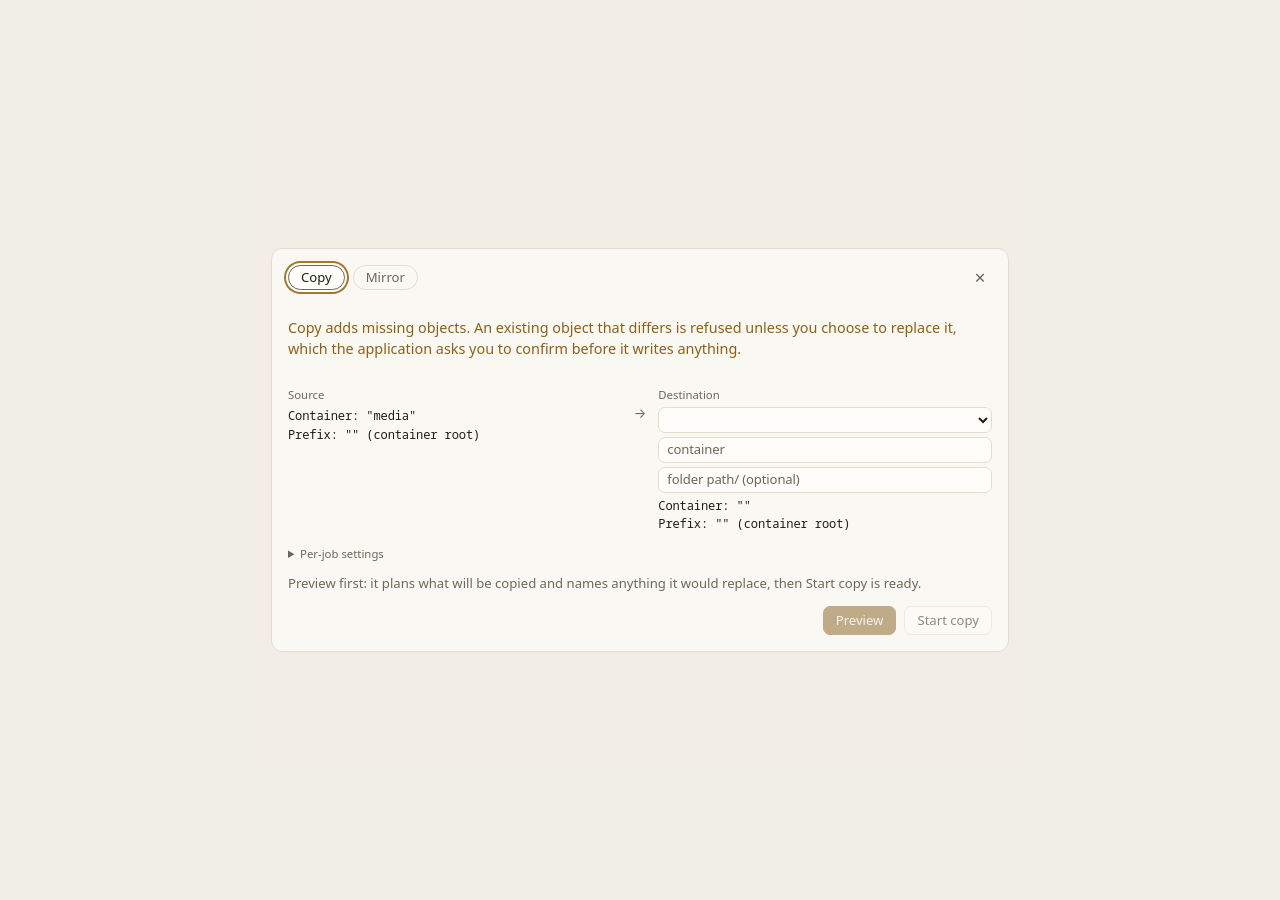
Test: keeps overwrite refusal visible for a versioned destination
Type "backup" into the field with placeholder "container" at point(825, 450), box [658,437,992,463]
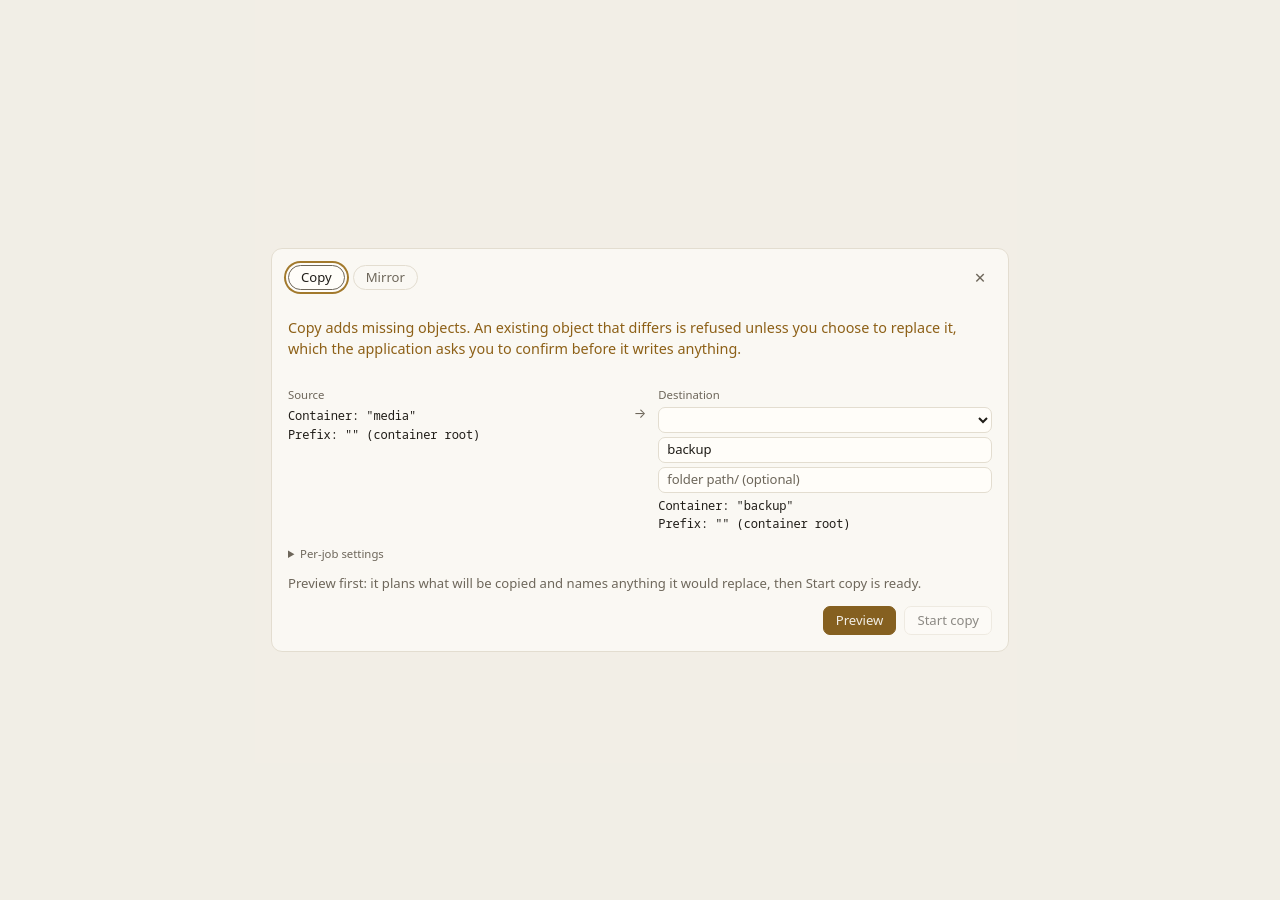
Replace the text in the field with placeholder "container" with "versioned" at point(825, 450), box [658,437,992,463]
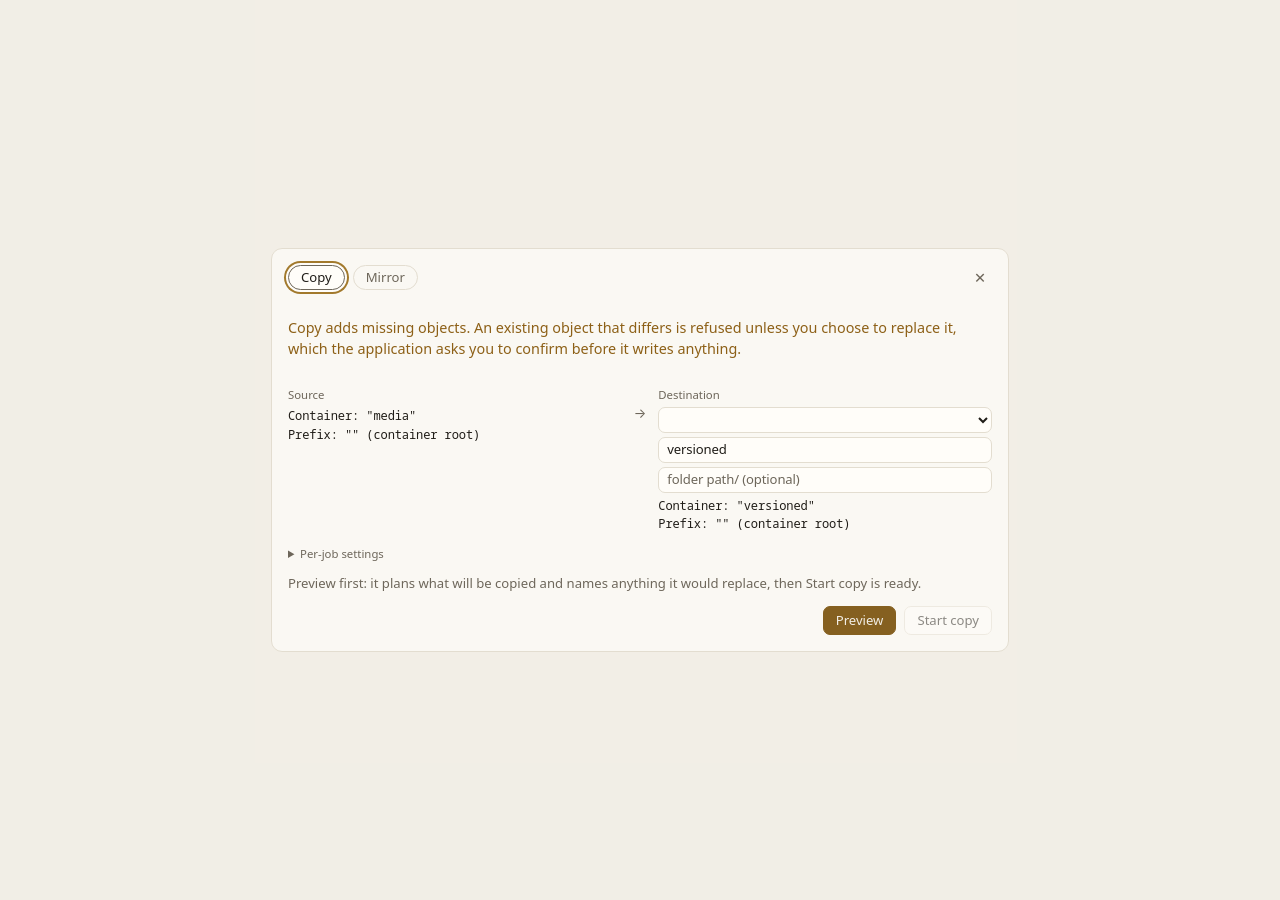
Click the button "Preview" at point(860, 620), box [823,606,896,635]
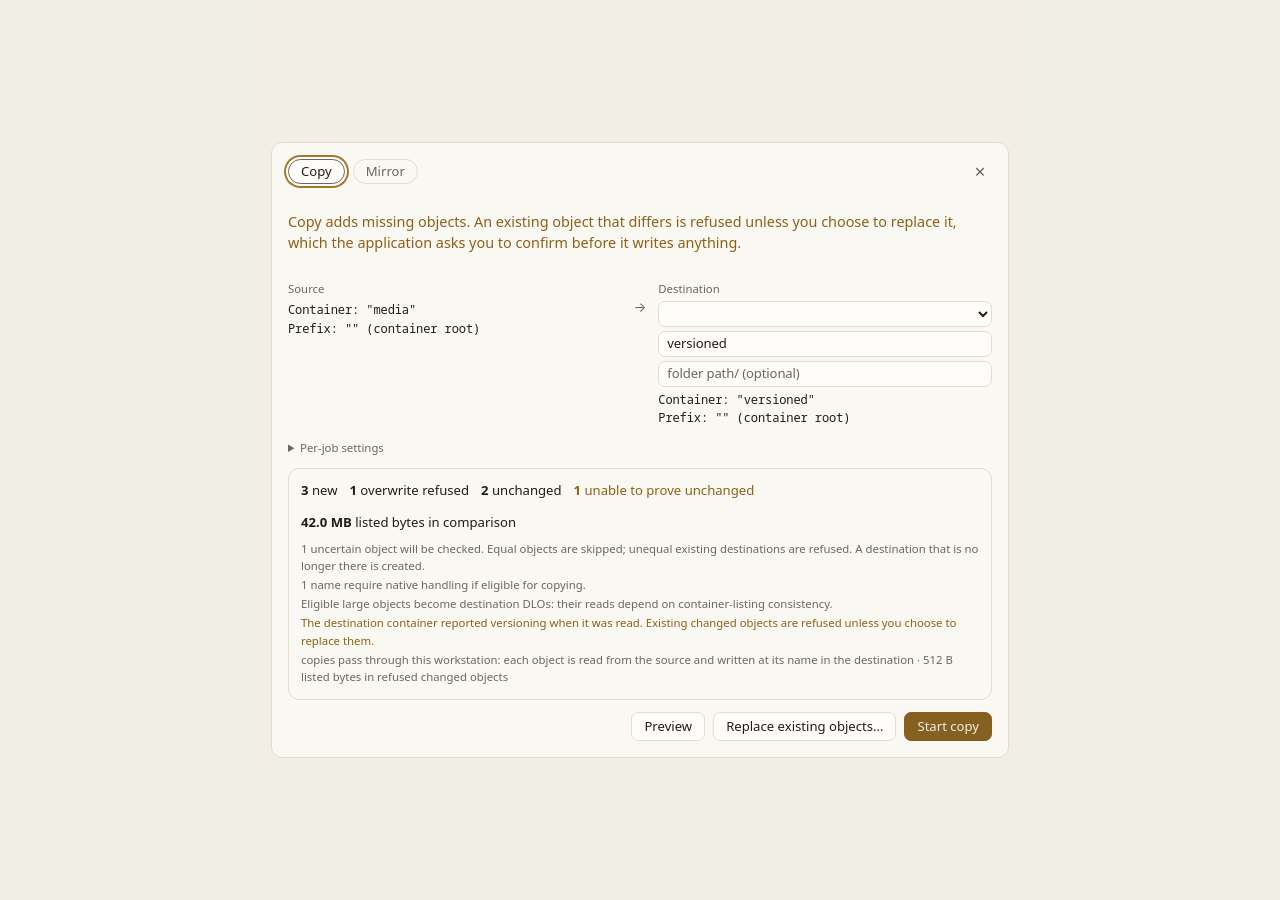
Expected: the element that starts with "new" is shown, [288,468,992,700]
Expected: the text "refused unless you choose to replace them" is shown, [301,616,956,648]
